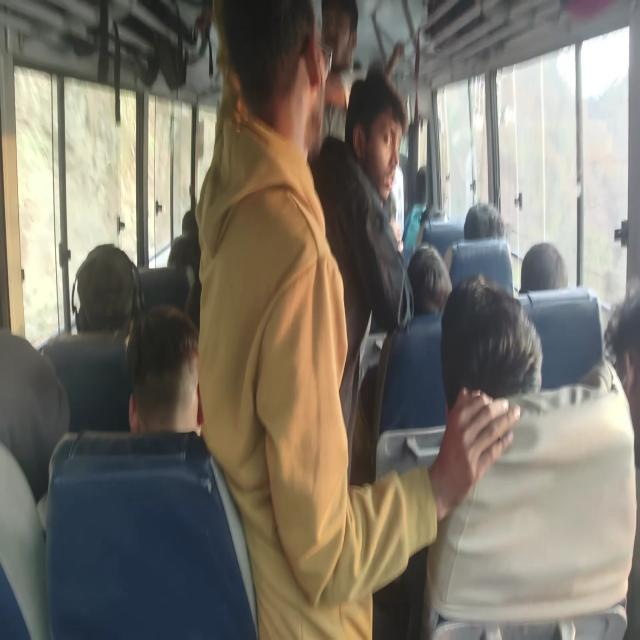person: (434, 282, 567, 439), (221, 0, 351, 144), (110, 324, 213, 461), (34, 222, 129, 342), (0, 360, 70, 486), (589, 296, 640, 432), (352, 72, 402, 205), (316, 0, 372, 95), (396, 241, 452, 328), (526, 232, 570, 333), (161, 234, 200, 291), (463, 204, 513, 245), (175, 204, 208, 235), (418, 174, 446, 208)
